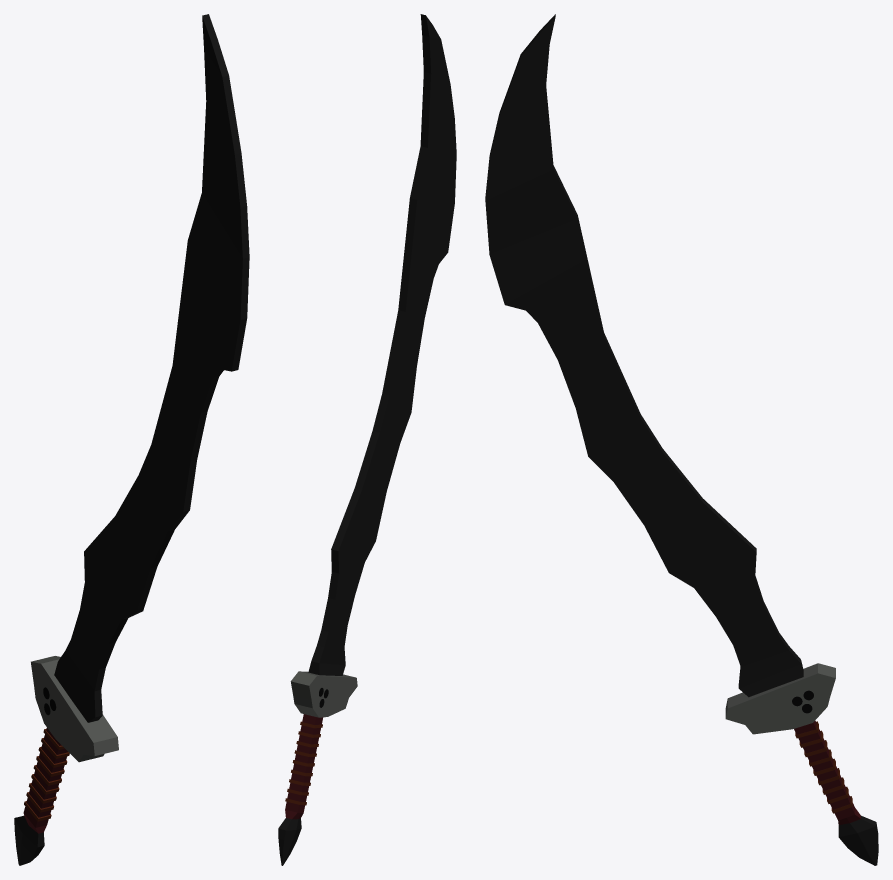
The model's file is sword (1).fbx.
The picture shows the model from 3 angles, left to right: view 1: azimuth 30°, elevation 25°; view 2: azimuth 150°, elevation 25°; view 3: azimuth 270°, elevation 25°; orthographic projection. The views are drawn at different scales.
Parts seen in each view (by area): view 1: Sword; view 2: Sword; view 3: Sword.
Boxes of the visible parts, x1,y1,x2,y2 form: Sword: [14, 14, 249, 865]; Sword: [278, 14, 456, 865]; Sword: [485, 14, 878, 865].
Bounding box in the file's own units: 12.29 × 470 × 197.
